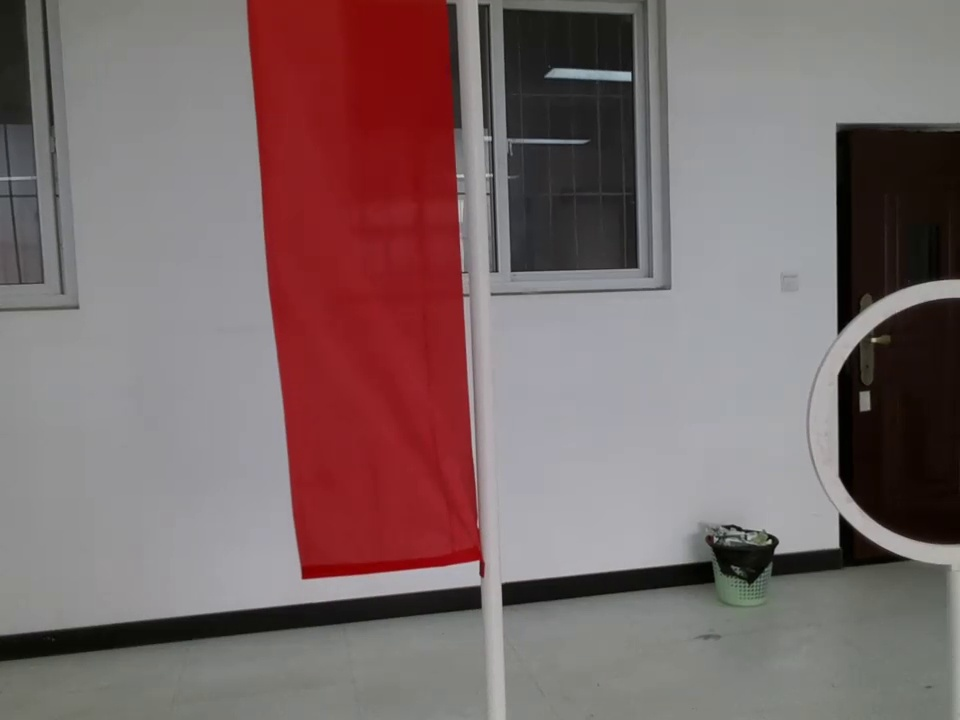qi: (236, 1, 514, 582)
quan: (797, 270, 960, 575)
